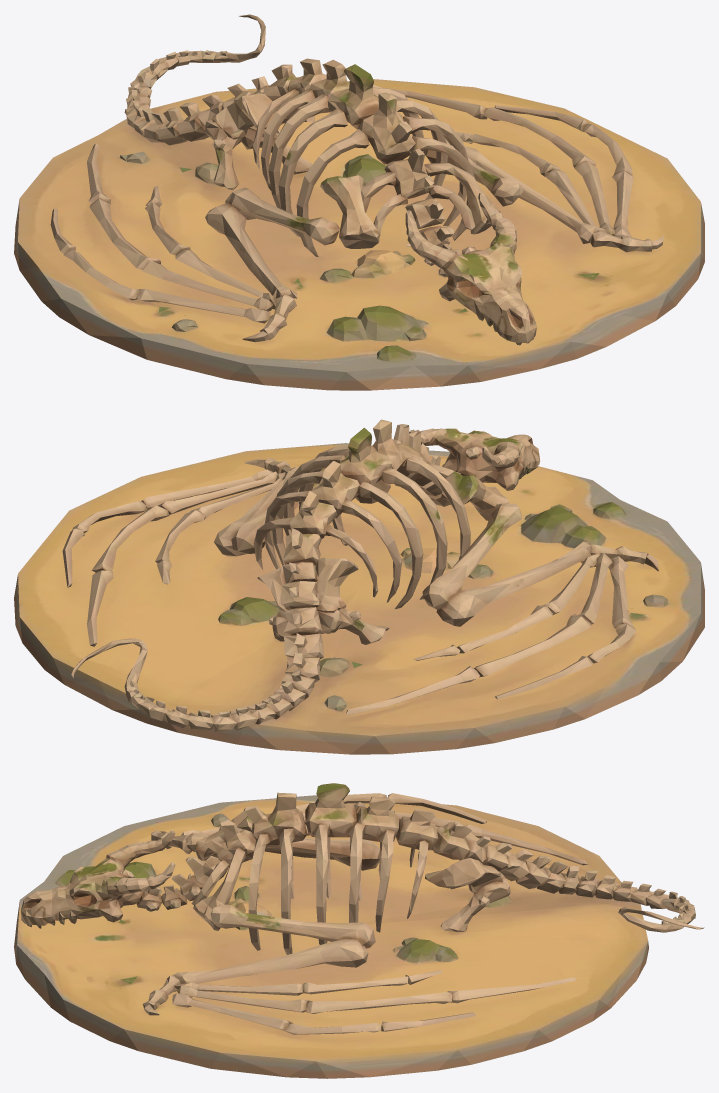
Rendered from bones.glb.
3 renders of one model, top to bottom at view 1: azimuth 30°, elevation 25°; view 2: azimuth 150°, elevation 25°; view 3: azimuth 270°, elevation 25°, orthographic. The views are drawn at different scales.
Parts seen in each view (by area): view 1: bones; view 2: bones; view 3: bones.
Part boxes in pixels (bbox=[...]): bones: bbox=[14, 14, 704, 390]; bones: bbox=[14, 419, 704, 754]; bones: bbox=[14, 783, 704, 1078].
Size of the model in its own units: 156 by 43.21 by 170.
1 material, 1 textured.
